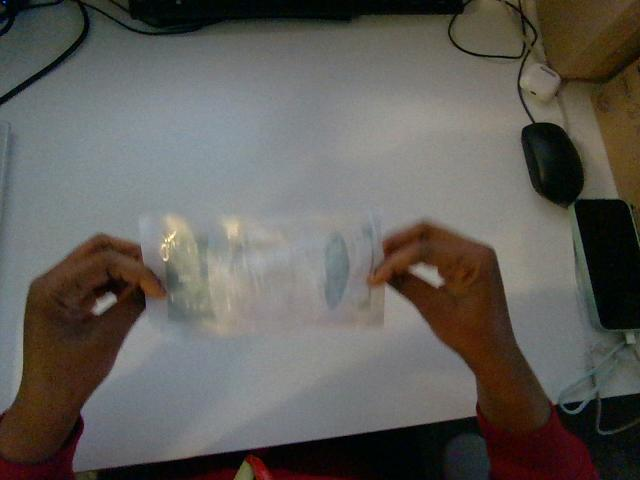gallipot: (140, 214, 383, 335)
